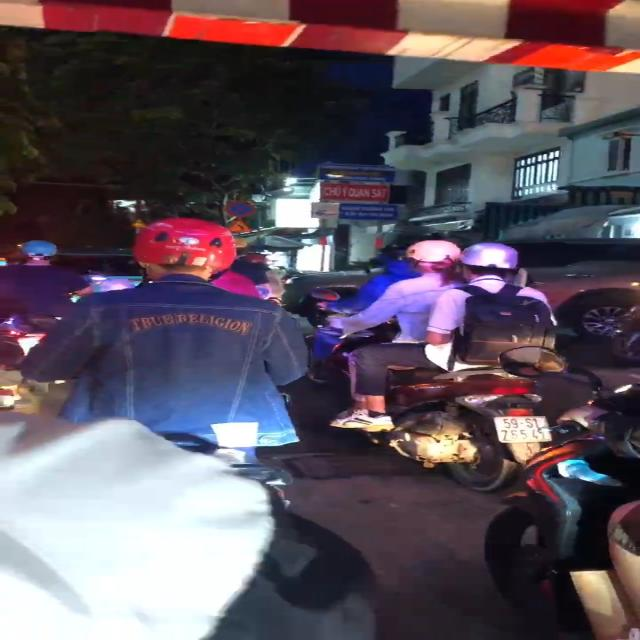Bien bao cam dung xe va do xe: (222, 200, 258, 218)
Bien bao cho ngoat nguy hiem: (222, 219, 256, 233)
